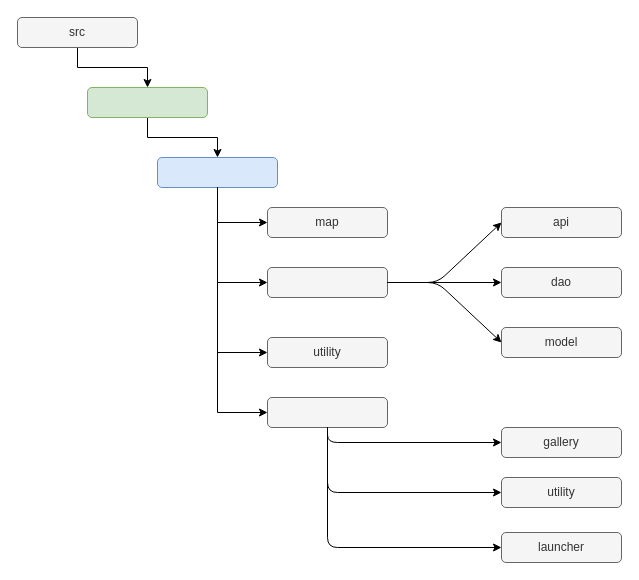
The diagram is 639 pixels wide and 580 high, and some of its shapes have lost their labels. The centre of each missing label's shape, as x and y in pixels:
"graphics" goes at (327,412).
"hibernate" goes at (327,282).
"java" goes at (217,172).
"main" goes at (147,102).
